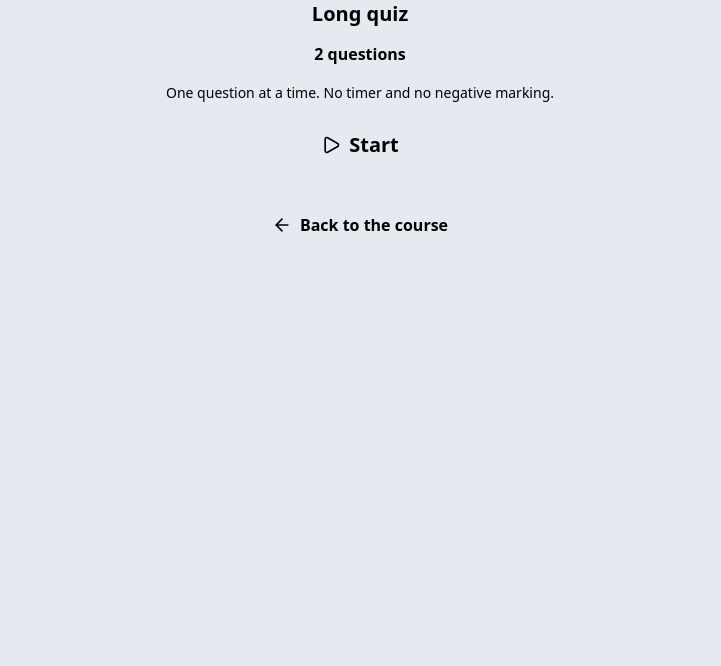
test game layout at 1366 px › question after a wrong answer: marks and a long explanation fit, no overlap
Click the button "Start". click: (360, 145)
box: [297,119,423,171]
(page scrolled)
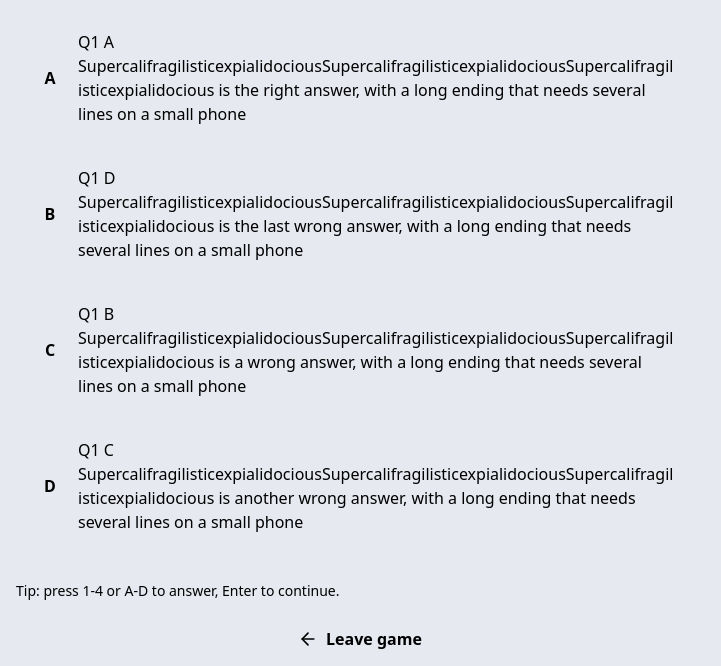
Click the 3rd button. click: (360, 350)
box: [16,288,704,412]
(page scrolled)
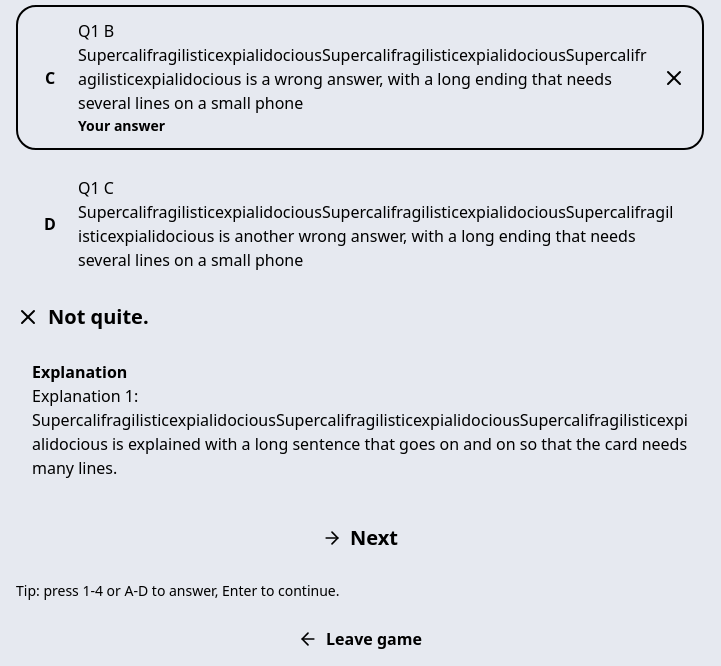
Check: the button "Next" is shown, box [16,512,704,564]
